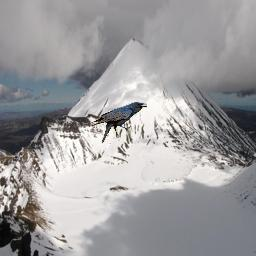Crow: (90, 102, 147, 144)
